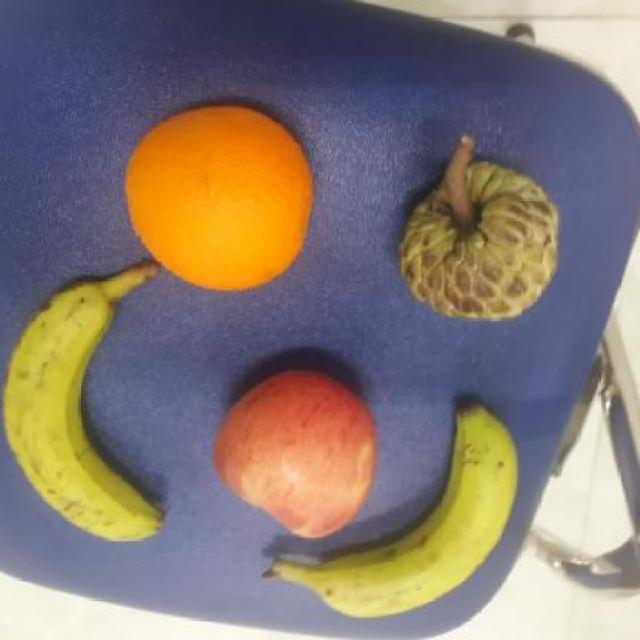apple: (202, 372, 389, 539)
banana: (0, 260, 169, 545)
oren: (115, 103, 323, 294)
sugar apple: (390, 161, 568, 325)
